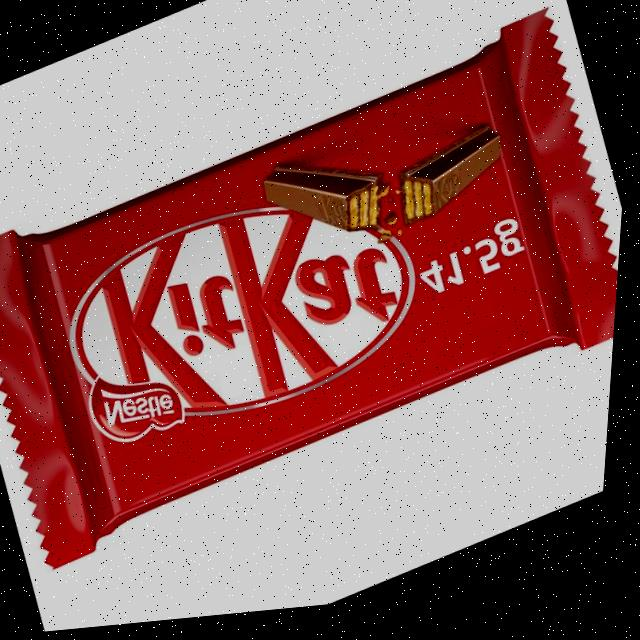kitkat: (0, 11, 637, 582)
